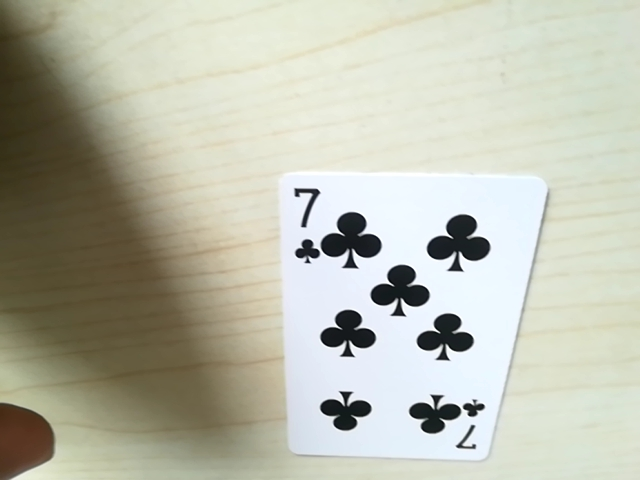mh 7: (287, 183, 326, 264), (449, 404, 486, 459)
